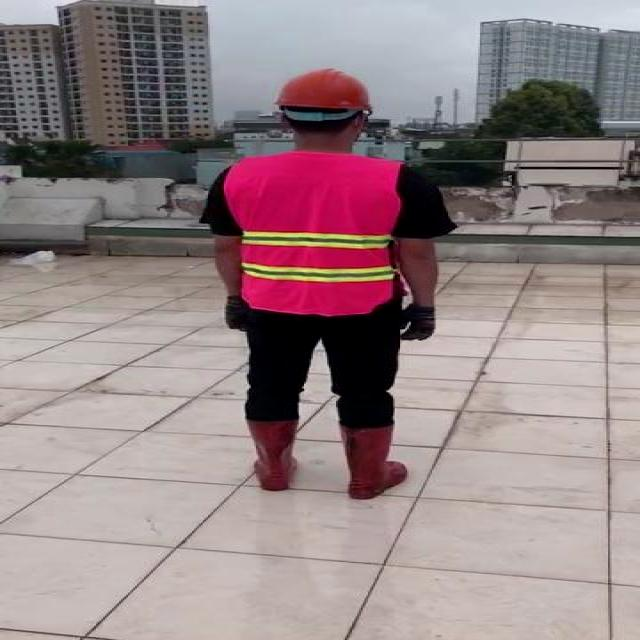boots: (338, 421, 409, 501), (236, 420, 306, 491)
hand_glove: (212, 295, 256, 331), (402, 307, 436, 345)
head_helmet: (272, 68, 380, 112)
person: (199, 66, 445, 506)
vest: (222, 152, 404, 314)
